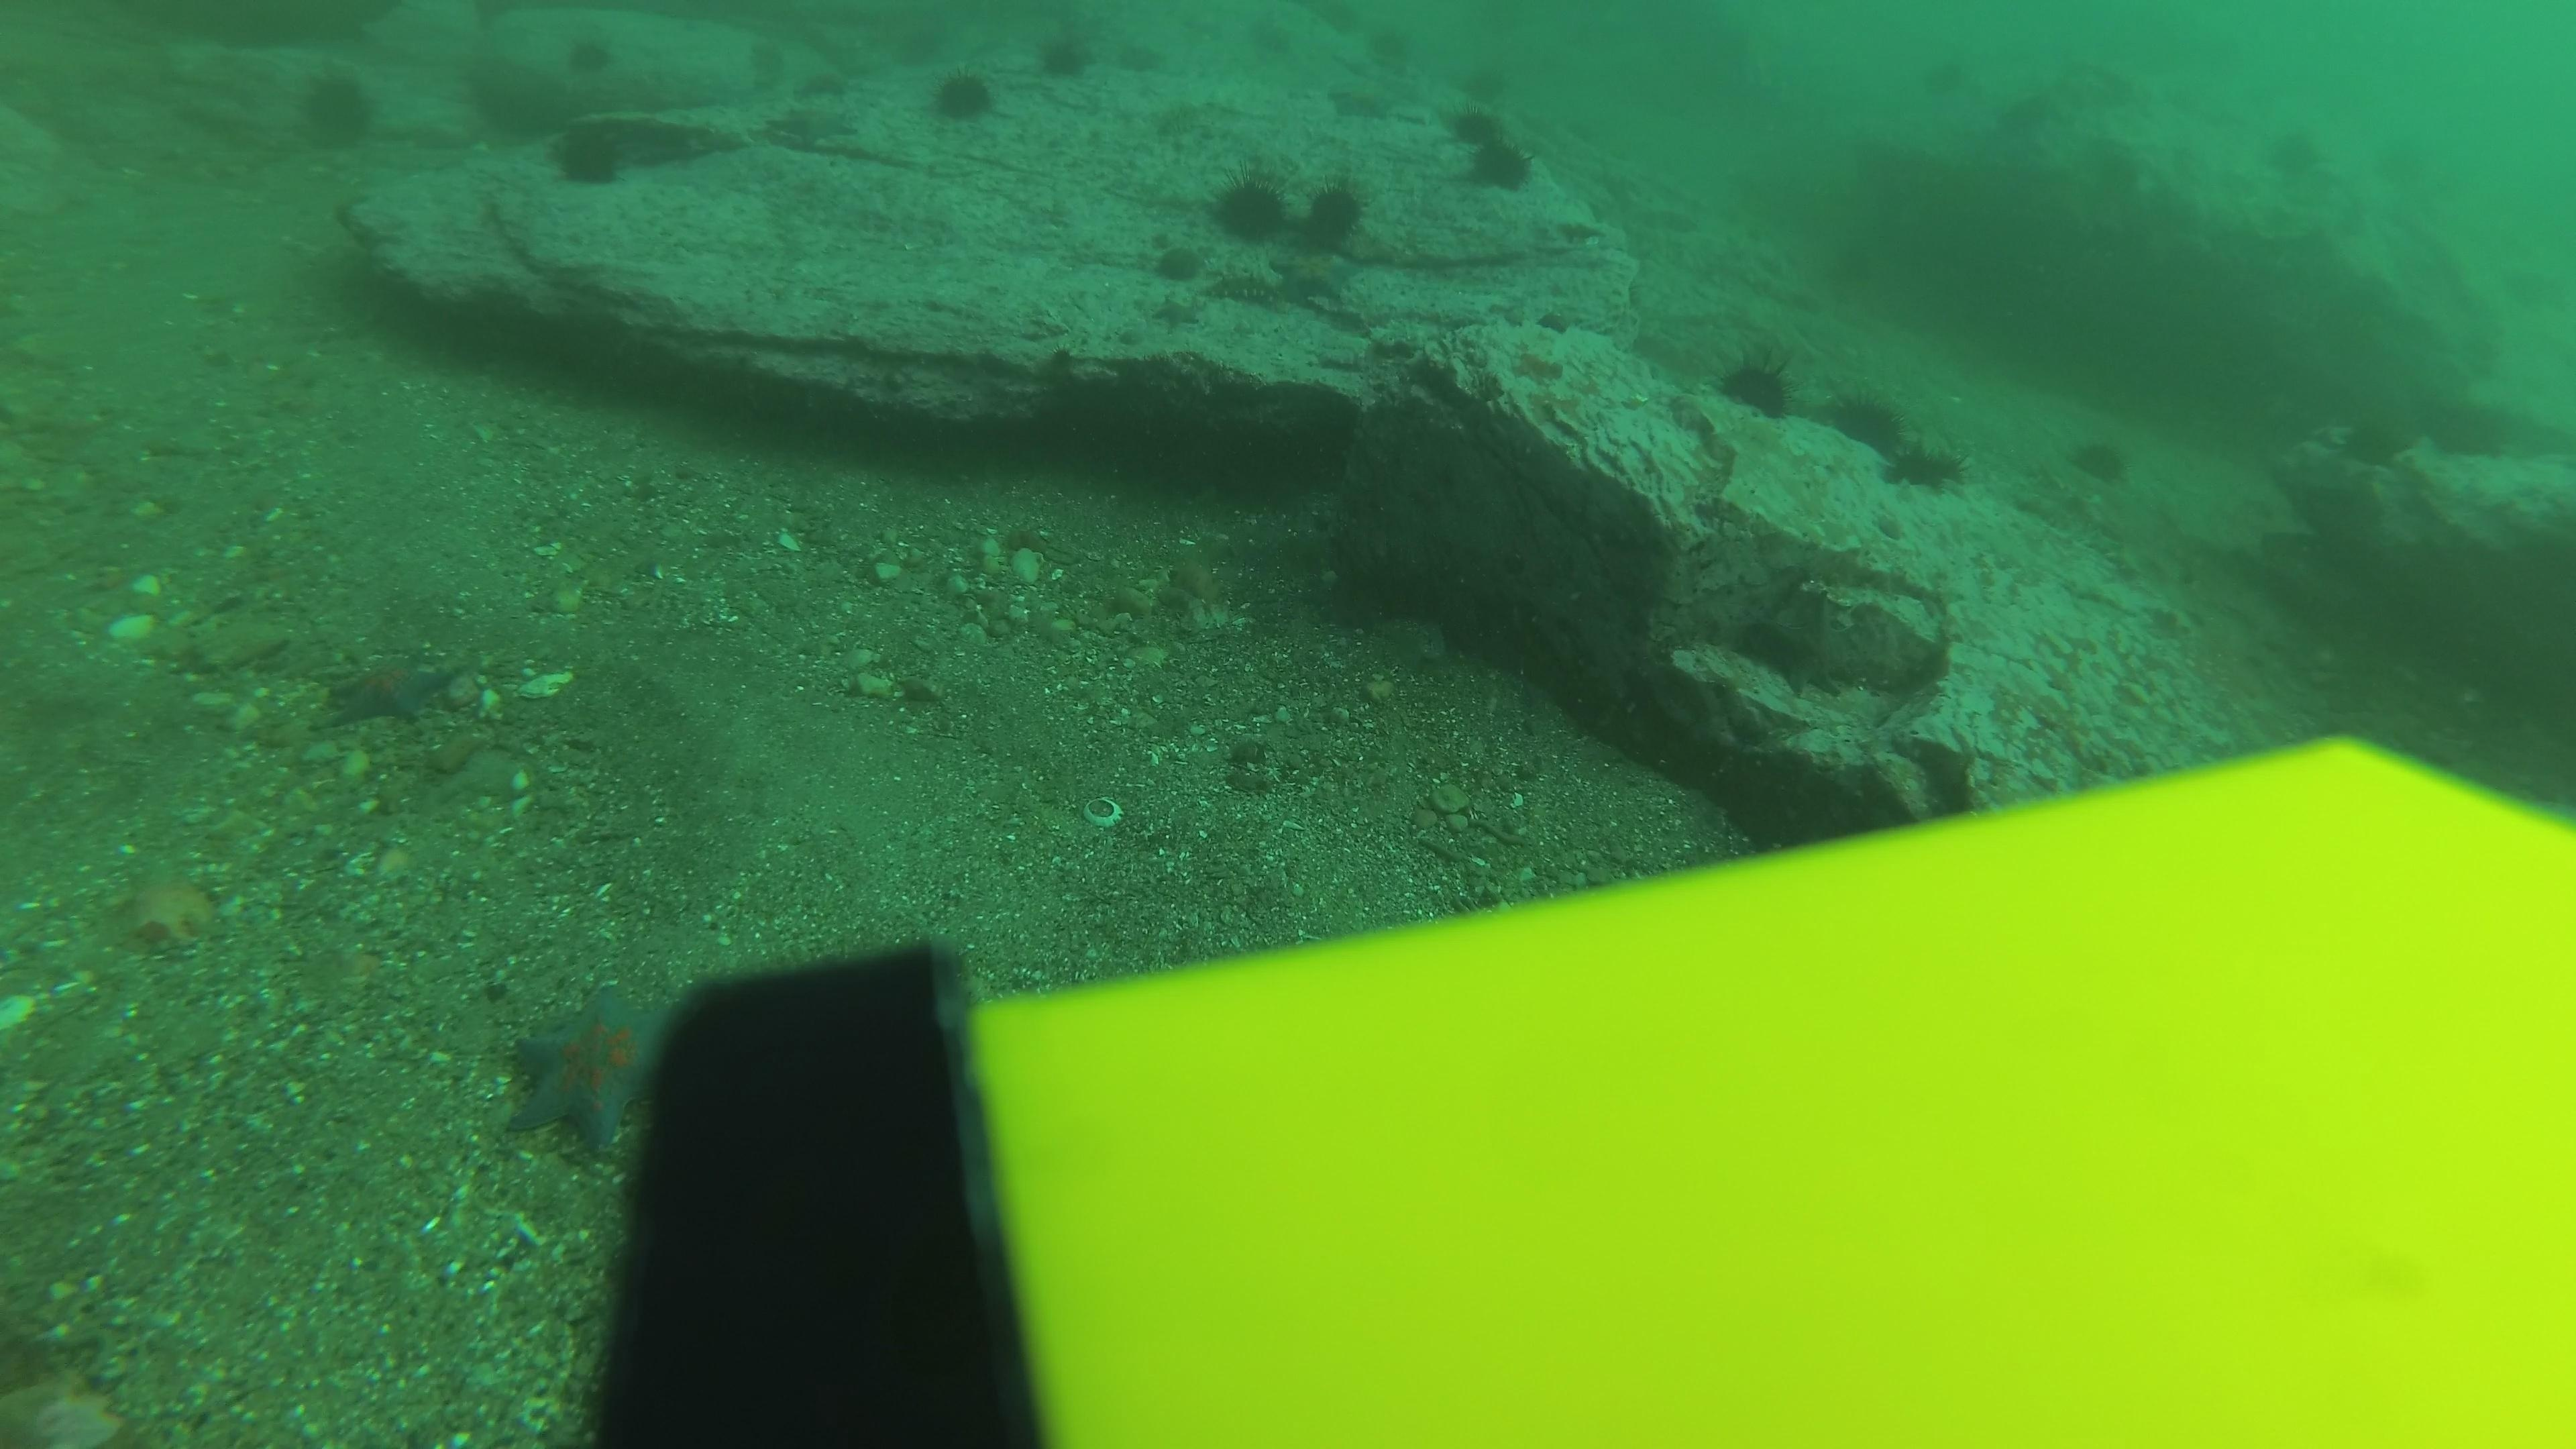echinus: (288, 64, 386, 156), (1279, 172, 1373, 258), (543, 115, 635, 193), (1711, 343, 1801, 421), (1815, 384, 1909, 455), (1210, 168, 1297, 244), (922, 62, 1005, 131), (1999, 74, 2070, 134), (1815, 235, 1886, 295), (2065, 430, 2135, 488), (1913, 48, 1983, 106), (1881, 441, 1951, 497), (1031, 30, 1099, 85), (1463, 142, 1532, 195), (1359, 27, 1428, 80), (1097, 18, 1166, 71), (1458, 58, 1522, 110), (727, 30, 789, 78), (561, 30, 621, 78), (1920, 439, 1976, 488), (1244, 11, 1297, 58), (1304, 0, 1357, 42), (1039, 341, 1083, 384), (1453, 106, 1497, 147)
holothurian: (1205, 262, 1274, 306), (1150, 97, 1219, 142)
starfish: (497, 978, 688, 1157), (317, 648, 460, 731), (1265, 248, 1362, 311), (761, 97, 865, 156), (1323, 69, 1396, 124), (793, 60, 853, 108), (1155, 294, 1208, 338)
